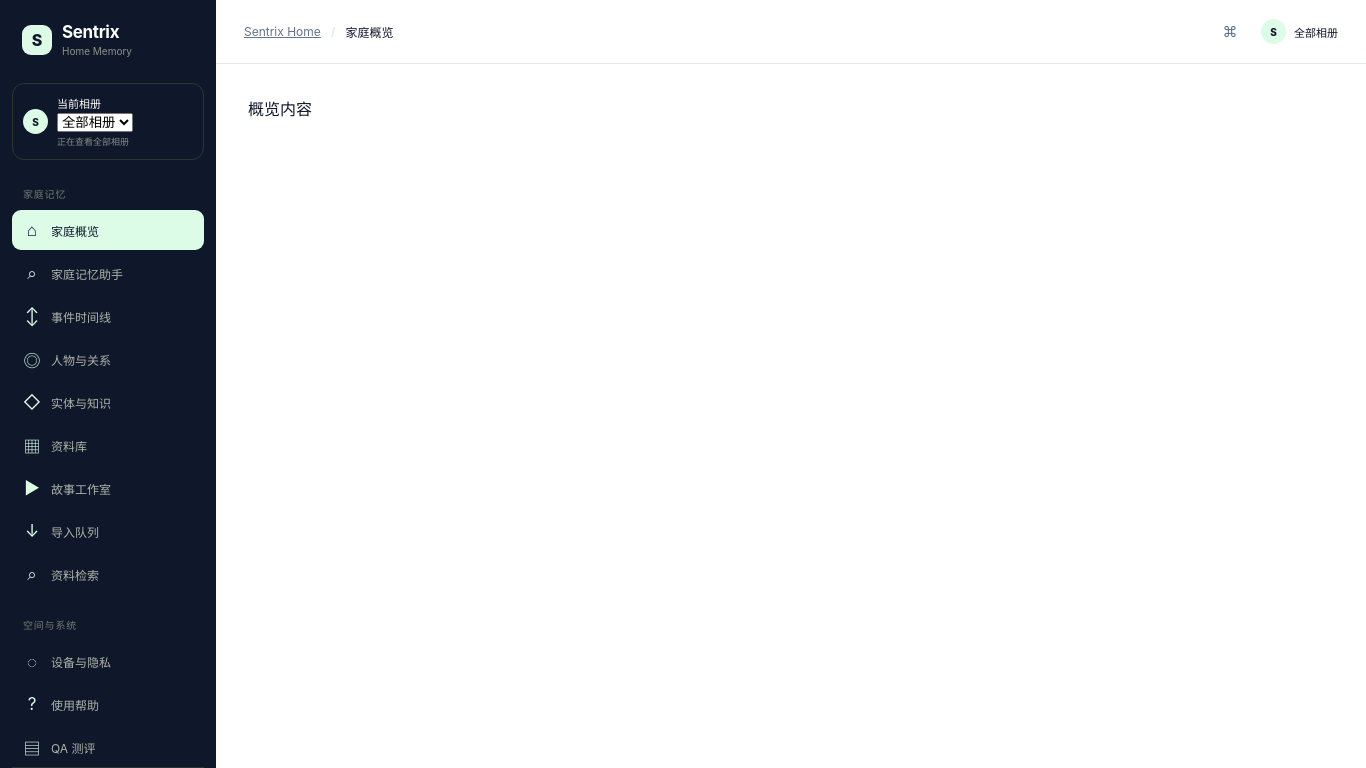
AppShell 壳层入口 › 相册切换失败时提示，而不是静默停在旧范围
Select "第一册" in the dropdown named "切换全部相册或独立相册": (95, 122) [57, 113, 133, 132]
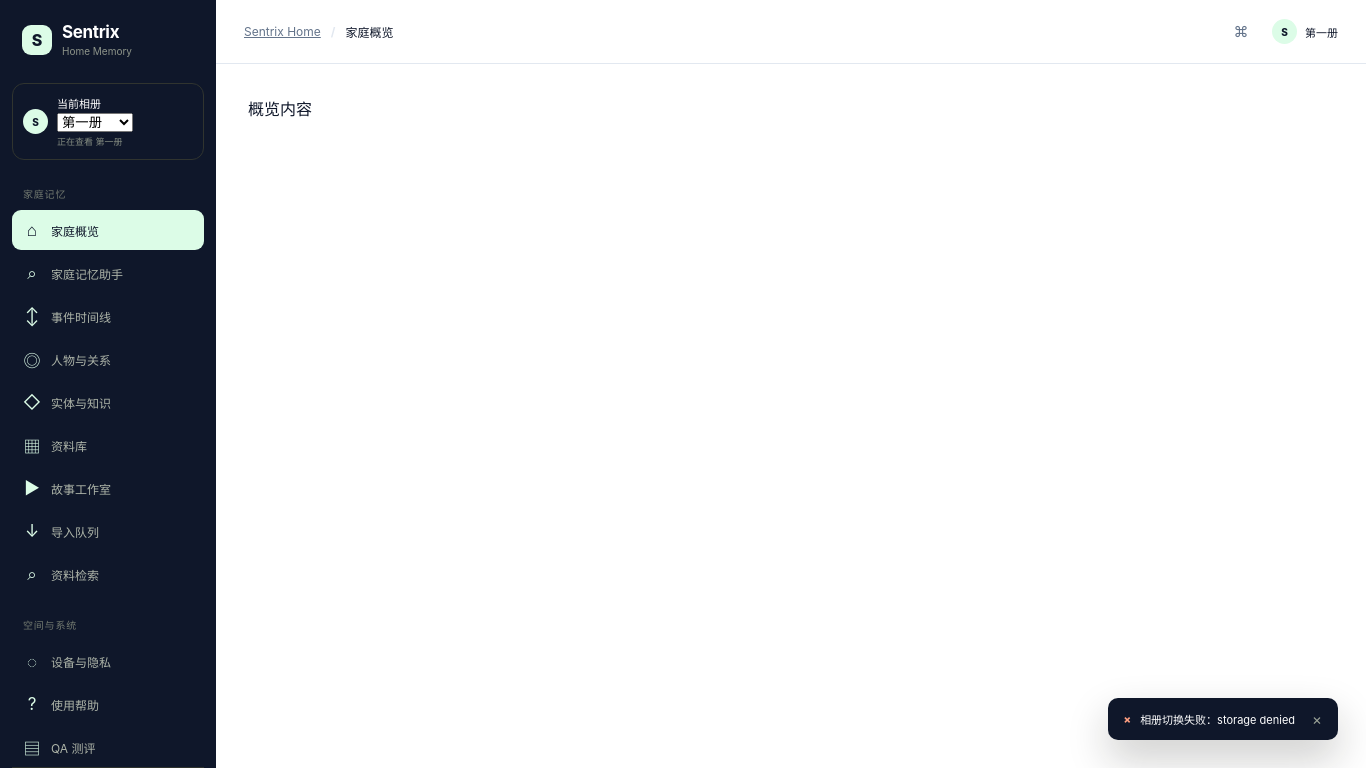
Expected: the message shows "相册切换失败：storage denied", [1140, 713, 1295, 727]
